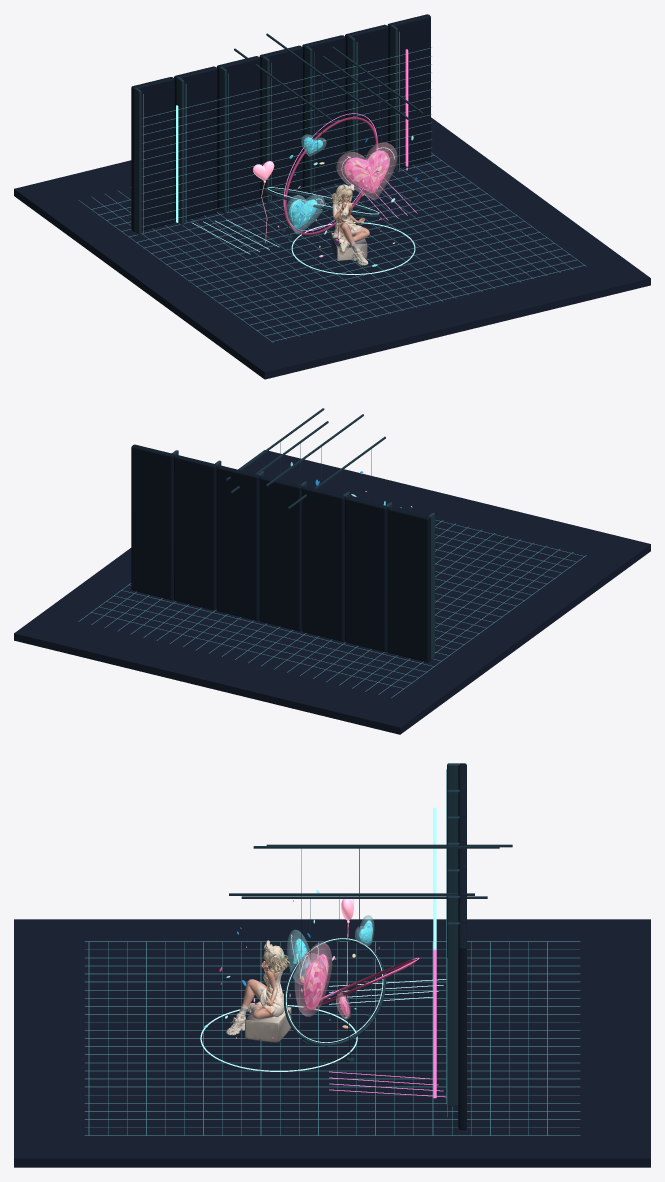
3 views of the same model, one above another, from view 1: azimuth 30°, elevation 25°; view 2: azimuth 150°, elevation 25°; view 3: azimuth 270°, elevation 25° (orthographic). The views are drawn at different scales.
Visible parts, largest first — view 1: Deep blue ground, Grid inlaid in navy ground, Dark glazed rib recess, Dark glazed rib recess.001, Dark glazed rib recess.002, Dark glazed rib recess.003, Dark glazed rib recess.004, Dark glazed rib recess.006, Dark glazed rib recess.005, Dark blue back wall grid, Closed polished heart shell, Tripo | Seated performer and original seat (+12 smaller); view 2: Deep blue ground, Dark glazed rib recess, Dark glazed rib recess.004, Dark glazed rib recess.003, Dark glazed rib recess.005, Dark glazed rib recess.006, Dark glazed rib recess.001, Dark glazed rib recess.002, Grid inlaid in navy ground, Vertical shadow seam; view 3: Deep blue ground, Grid inlaid in navy ground, Tripo | Seated performer and original seat, Vertical shadow seam.006, Closed polished heart shell, Dark glazed rib recess.006, Sloping orbit-mounted support ribbon.002, Suspended faceted heart core, Sloping orbit-mounted support ribbon, Suspension truss at ceiling.003, Suspension truss at ceiling.002, Closed polished heart shell.001 (+2 smaller).
Part boxes in pixels (bbox=[...]): Deep blue ground: bbox=[14, 117, 650, 379]; Grid inlaid in navy ground: bbox=[78, 152, 586, 342]; Dark glazed rib recess: bbox=[131, 77, 174, 231]; Dark glazed rib recess.001: bbox=[174, 66, 217, 220]; Dark glazed rib recess.002: bbox=[216, 56, 260, 211]; Dark glazed rib recess.003: bbox=[259, 45, 302, 200]; Dark glazed rib recess.004: bbox=[302, 35, 345, 190]; Dark glazed rib recess.006: bbox=[387, 14, 430, 169]; Dark glazed rib recess.005: bbox=[345, 24, 388, 179]; Dark blue back wall grid: bbox=[142, 47, 431, 226]; Closed polished heart shell: bbox=[336, 142, 397, 199]; Tripo | Seated performer and original seat: bbox=[331, 184, 369, 265]; Deep blue ground: bbox=[14, 450, 650, 734]; Dark glazed rib recess: bbox=[387, 507, 430, 662]; Dark glazed rib recess.004: bbox=[216, 465, 260, 620]; Dark glazed rib recess.003: bbox=[259, 476, 302, 631]; Dark glazed rib recess.005: bbox=[174, 455, 217, 610]; Dark glazed rib recess.006: bbox=[131, 444, 174, 599]; Dark glazed rib recess.001: bbox=[345, 496, 388, 651]; Dark glazed rib recess.002: bbox=[302, 486, 345, 641]; Grid inlaid in navy ground: bbox=[78, 520, 586, 697]; Vertical shadow seam: bbox=[428, 512, 434, 659]; Deep blue ground: bbox=[14, 919, 650, 1167]; Grid inlaid in navy ground: bbox=[84, 941, 580, 1135]; Tripo | Seated performer and original seat: bbox=[226, 940, 291, 1042]; Vertical shadow seam.006: bbox=[447, 922, 459, 1106]; Closed polished heart shell: bbox=[294, 942, 332, 1016]; Dark glazed rib recess.006: bbox=[458, 922, 466, 1129]; Sloping orbit-mounted support ribbon.002: bbox=[284, 938, 385, 1046]; Suspended faceted heart core: bbox=[303, 954, 328, 1009]; Sloping orbit-mounted support ribbon: bbox=[303, 959, 415, 1010]; Suspension truss at ceiling.003: bbox=[253, 846, 499, 848]; Suspension truss at ceiling.002: bbox=[229, 893, 474, 895]; Closed polished heart shell.001: bbox=[287, 929, 309, 984].
Size of the model in its own units: 16 by 6.29 by 18.
